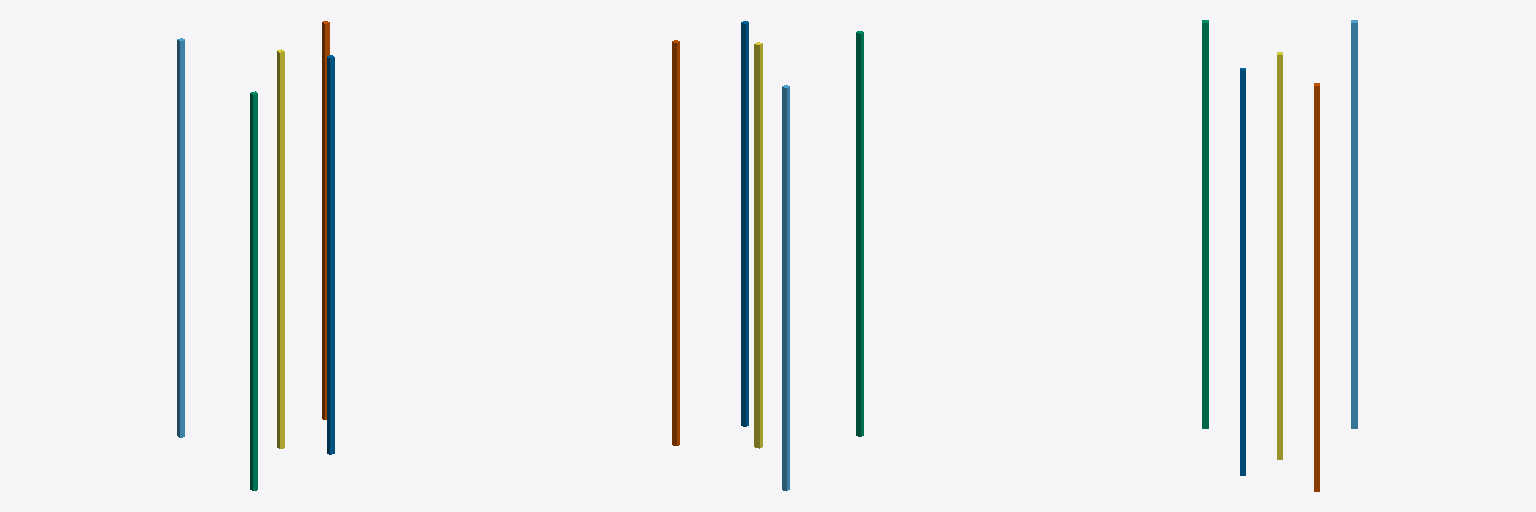
robot.urdf — forest:
<robot name="forest">
   <material name="Brown">
     <color rgba="83./255. 53./255. 10./255."/>
   </material>
   <material name="White">
     <color rgba="1 1 1"/>
   </material>
   <material name="Grey">
     <color rgba=".3 .3 .3"/>
   </material>
   <material name="Red">
     <color rgba="1 0 0"/>
   </material>
   <link name="world"/>

   <link name="pole1">
   	<inertial>
   		<mass value=".5" />
   		<origin xyz="0 0 1.5" rpy="0 0 0"/>
		  <inertia ixx="10"  ixy="0"  ixz="0" iyy="10" iyz="0" izz="1" />
   	</inertial>
  	<visual>
      <origin xyz="0 0 1.5" rpy="0 0 0" />
      <geometry>
        <box size="0.042 0.042 3"/>
      </geometry>
      <material name="White"/>
    </visual>
    <collision>
      <origin xyz="0 0 1.5" rpy="0 0 0" />
      <geometry>
        <box size="0.042 0.042 3"/>
      </geometry>
    </collision>
   </link>
   <joint name="pole1_weld" type="fixed">
    <parent link="world"/>
      <child link="pole1"/>
    <origin xyz="-.5 .5 0" rpy="0 0 0" />
   </joint>

   <link name="pole2">
   	<inertial>
   		<mass value=".5" />
   		<origin xyz="0 0 1.5" rpy="0 0 0"/>
		  <inertia ixx="10"  ixy="0"  ixz="0" iyy="10" iyz="0" izz="1" />
   	</inertial>
  	<visual>
      <origin xyz="0 0 1.5" rpy="0 0 0" />
      <geometry>
        <box size="0.042 0.042 3"/>
      </geometry>
      <material name="White"/>
    </visual>
    <collision>
      <origin xyz="0 0 1.5" rpy="0 0 0" />
      <geometry>
        <box size="0.042 0.042 3"/>
      </geometry>
    </collision>
   </link>
   <joint name="pole2_weld" type="fixed">
    <parent link="world"/>
      <child link="pole2"/>
    <origin xyz="-.5 -.5 0" rpy="0 0 0" />
   </joint>

   <link name="pole3">
   	<inertial>
   		<mass value=".5" />
   		<origin xyz="0 0 1.5" rpy="0 0 0"/>
		  <inertia ixx="10"  ixy="0"  ixz="0" iyy="10" iyz="0" izz="1" />
   	</inertial>
  	<visual>
      <origin xyz="0 0 1.5" rpy="0 0 0" />
      <geometry>
        <box size="0.042 0.042 3"/>
      </geometry>
      <material name="White"/>
    </visual>
    <collision>
      <origin xyz="0 0 1.5" rpy="0 0 0" />
      <geometry>
        <box size="0.042 0.042 3"/>
      </geometry>
    </collision>
   </link>
   <joint name="pole3_weld" type="fixed">
    <parent link="world"/>
      <child link="pole3"/>
    <origin xyz="0 0 0" rpy="0 0 0" />
   </joint>

   <link name="pole4">
   	<inertial>
   		<mass value=".5" />
   		<origin xyz="0 0 1.5" rpy="0 0 0"/>
		  <inertia ixx="10"  ixy="0"  ixz="0" iyy="10" iyz="0" izz="1" />
   	</inertial>
  	<visual>
      <origin xyz="0 0 1.5" rpy="0 0 0" />
      <geometry>
        <box size="0.042 0.042 3"/>
      </geometry>
      <material name="White"/>
    </visual>
    <collision>
      <origin xyz="0 0 1.5" rpy="0 0 0" />
      <geometry>
        <box size="0.042 0.042 3"/>
      </geometry>
    </collision>
   </link>
   <joint name="pole4_weld" type="fixed">
    <parent link="world"/>
      <child link="pole4"/>
    <origin xyz=".25 -.25 0" rpy="0 0 0" />
   </joint>

   <link name="pole5">
   	<inertial>
   		<mass value=".5" />
   		<origin xyz="0 0 1.5" rpy="0 0 0"/>
		  <inertia ixx="10"  ixy="0"  ixz="0" iyy="10" iyz="0" izz="1" />
   	</inertial>
  	<visual>
      <origin xyz="0 0 1.5" rpy="0 0 0" />
      <geometry>
        <box size="0.042 0.042 3"/>
      </geometry>
      <material name="White"/>
    </visual>
    <collision>
      <origin xyz="0 0 1.5" rpy="0 0 0" />
      <geometry>
        <box size="0.042 0.042 3"/>
      </geometry>
    </collision>
   </link>
   <joint name="pole5_weld" type="fixed">
    <parent link="world"/>
      <child link="pole5"/>
    <origin xyz=".5 .25 0" rpy="0 0 0" />
   </joint>

</robot>

--- Render facts (derived) ---
3 views of the same robot in one strip: view 1: azimuth 30°, elevation 25°; view 2: azimuth 150°, elevation 25°; view 3: azimuth 270°, elevation 25° (orthographic).
Robot: forest — 6 links, 5 joints (5 fixed); root link world; default pose: every joint at zero.
Links seen in each view (by area): view 1: pole1, pole4, pole3, pole2, pole5; view 2: pole3, pole2, pole5, pole1, pole4; view 3: pole1, pole2, pole5, pole3, pole4.
Link boxes in pixels (x1=…): pole1: x1=177, y1=38, x2=184, y2=437; pole4: x1=327, y1=55, x2=334, y2=454; pole3: x1=277, y1=49, x2=284, y2=448; pole2: x1=250, y1=91, x2=257, y2=490; pole5: x1=322, y1=21, x2=329, y2=419; pole3: x1=754, y1=42, x2=762, y2=448; pole2: x1=856, y1=31, x2=863, y2=436; pole5: x1=672, y1=40, x2=679, y2=445; pole1: x1=782, y1=85, x2=789, y2=490; pole4: x1=741, y1=21, x2=748, y2=426; pole1: x1=1351, y1=20, x2=1357, y2=428; pole2: x1=1202, y1=20, x2=1208, y2=428; pole5: x1=1314, y1=83, x2=1319, y2=491; pole3: x1=1277, y1=52, x2=1282, y2=459; pole4: x1=1240, y1=68, x2=1245, y2=475.
Size in the robot's own frame: 1.04 by 1.04 by 3 metres.
Geometry: primitives only (box / cylinder / sphere), no mesh files.
